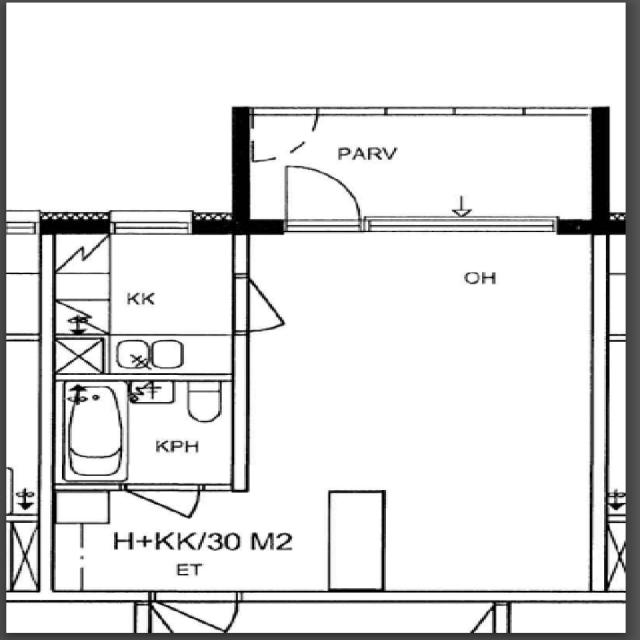door: (280, 164, 362, 228), (142, 482, 208, 522), (241, 290, 298, 335)
window: (102, 204, 203, 238), (469, 210, 568, 235)
zone: (46, 226, 248, 380), (124, 379, 235, 487), (59, 379, 125, 482)
